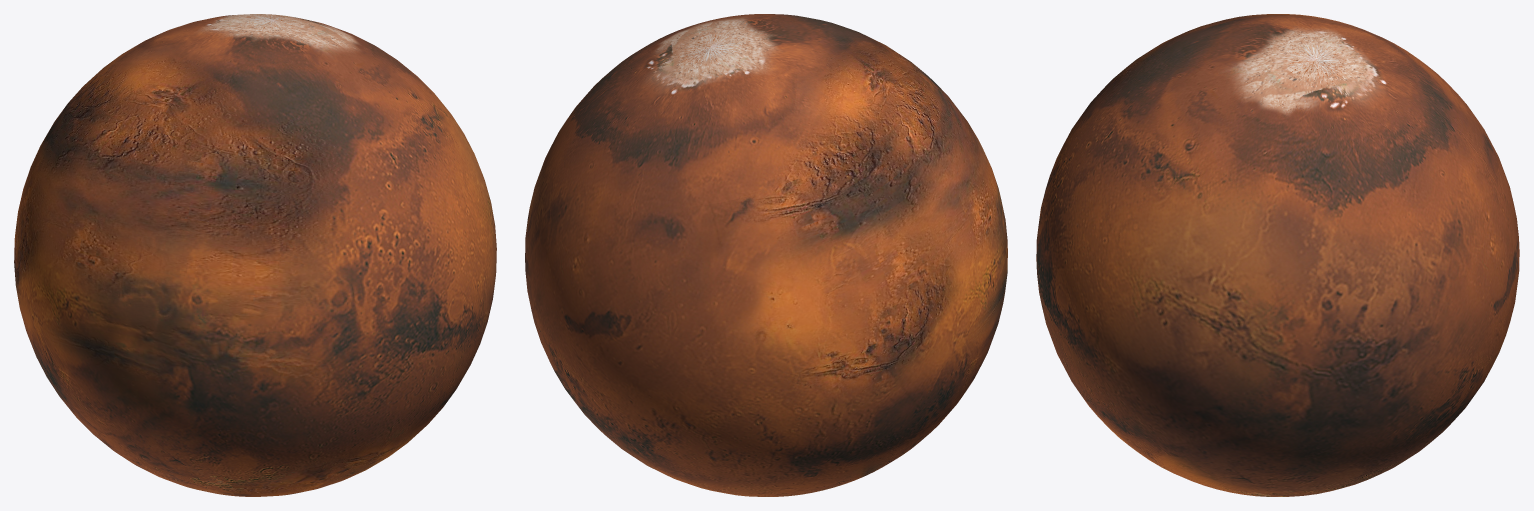
Rendered from mars.fbx.
The picture shows the model from 3 angles, left to right: view 1: azimuth 30°, elevation 25°; view 2: azimuth 150°, elevation 25°; view 3: azimuth 270°, elevation 25°; orthographic projection.
Visible parts, largest first — view 1: Sphere; view 2: Sphere; view 3: Sphere.
Part boxes in pixels (x1,y1,x2,y2): Sphere: (14, 14, 496, 496); Sphere: (525, 14, 1007, 496); Sphere: (1036, 14, 1519, 496).
Bounding box in the file's own units: 200 × 200 × 200.
